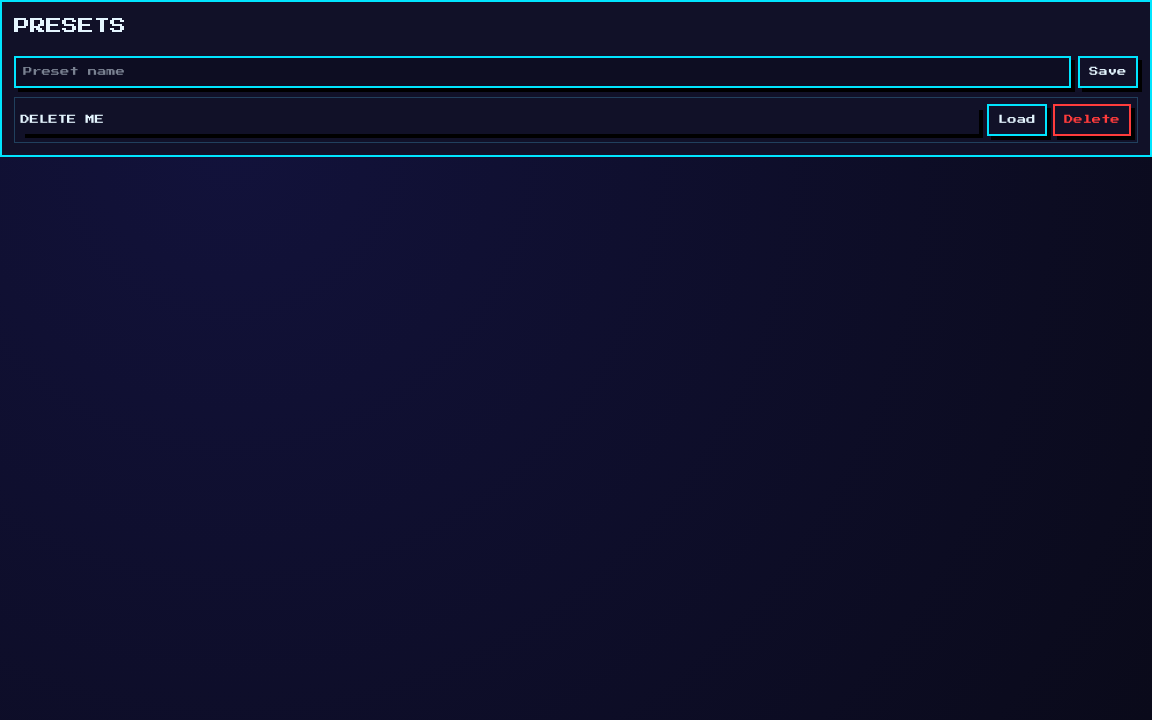
PresetPanel › deleting a preset removes it from rendered list
This screenshot has width=1152, height=720.
Click the button with aria-label "Delete DELETE ME" at (1092, 120), box [1053,104,1131,136]
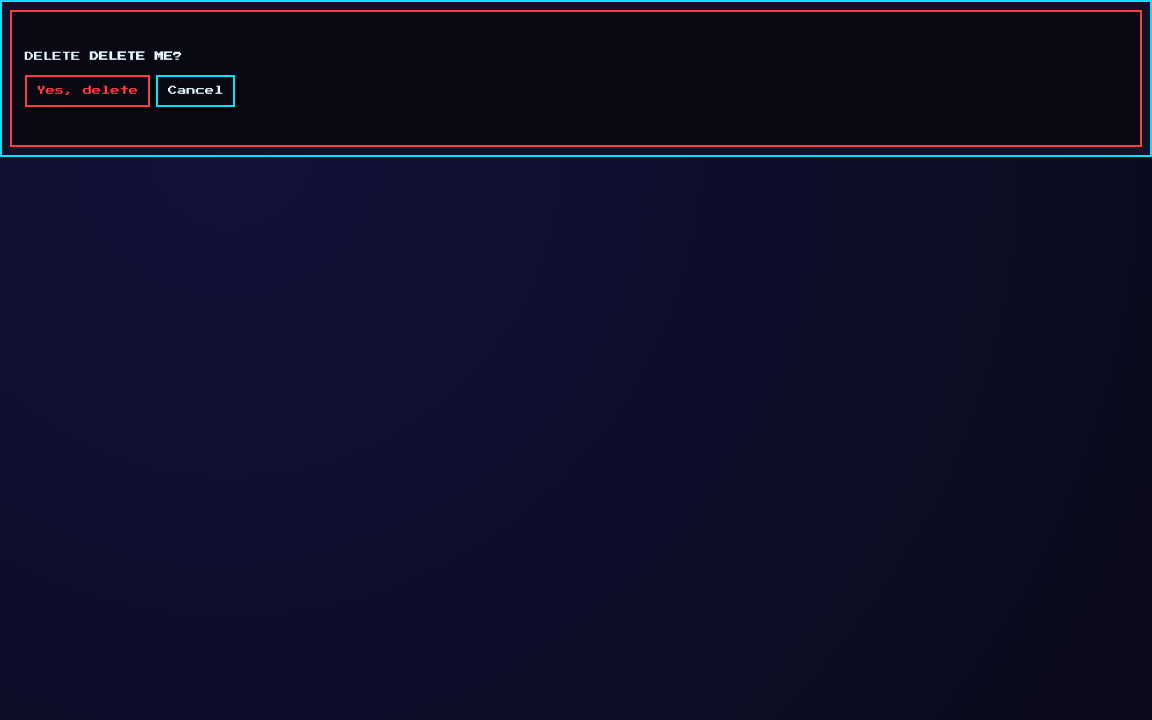
Click the button "Yes, delete" at (87, 91), box [25,75,150,107]
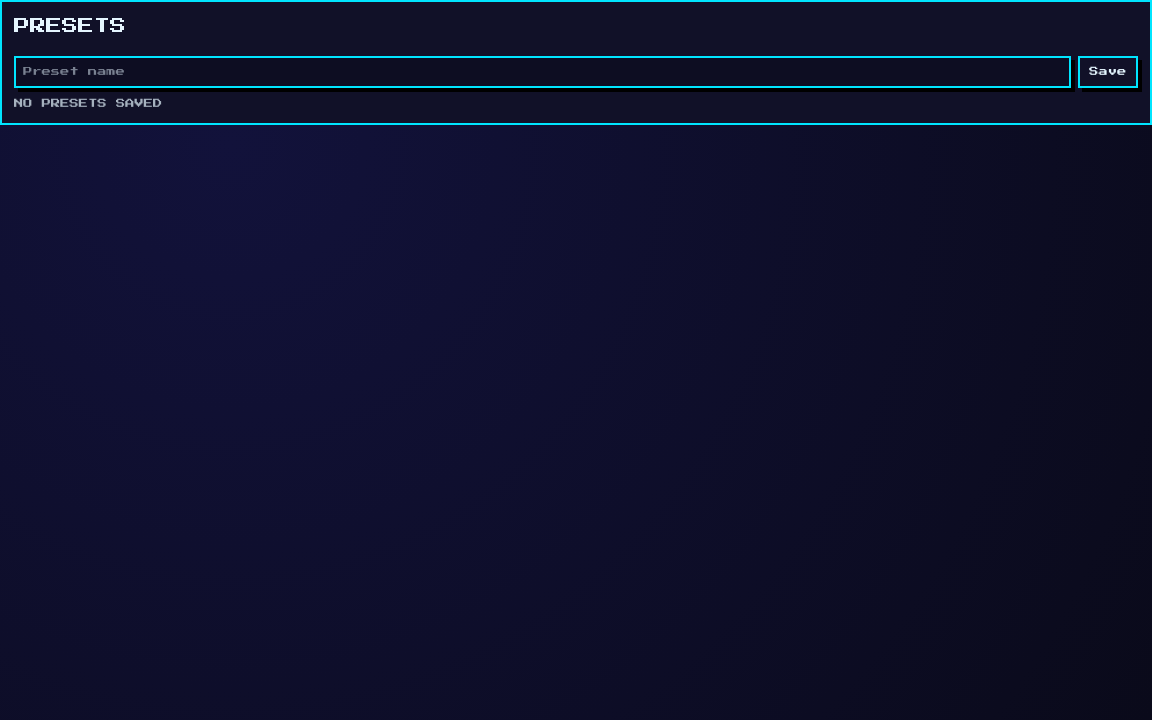
Check: the button "DELETE ME" is gone
